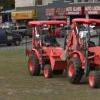Tractor: (21, 12, 100, 90)
